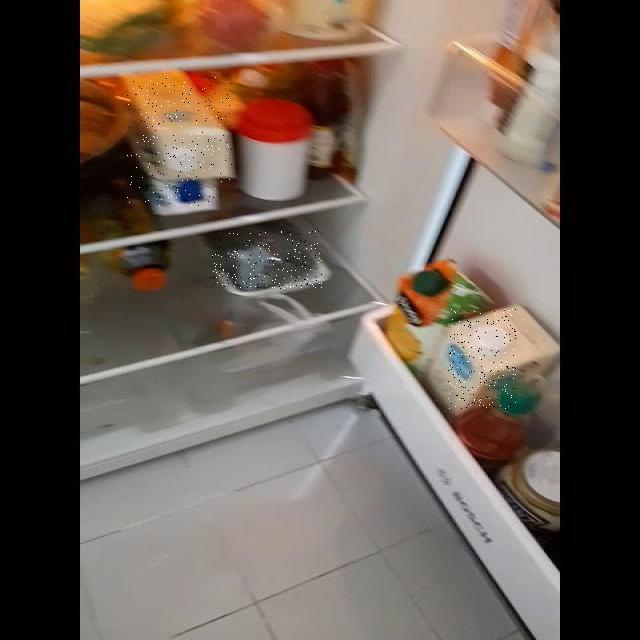broccoli: (210, 231, 322, 289)
juice: (397, 259, 449, 362)
milk: (125, 77, 232, 206), (448, 309, 516, 409)
